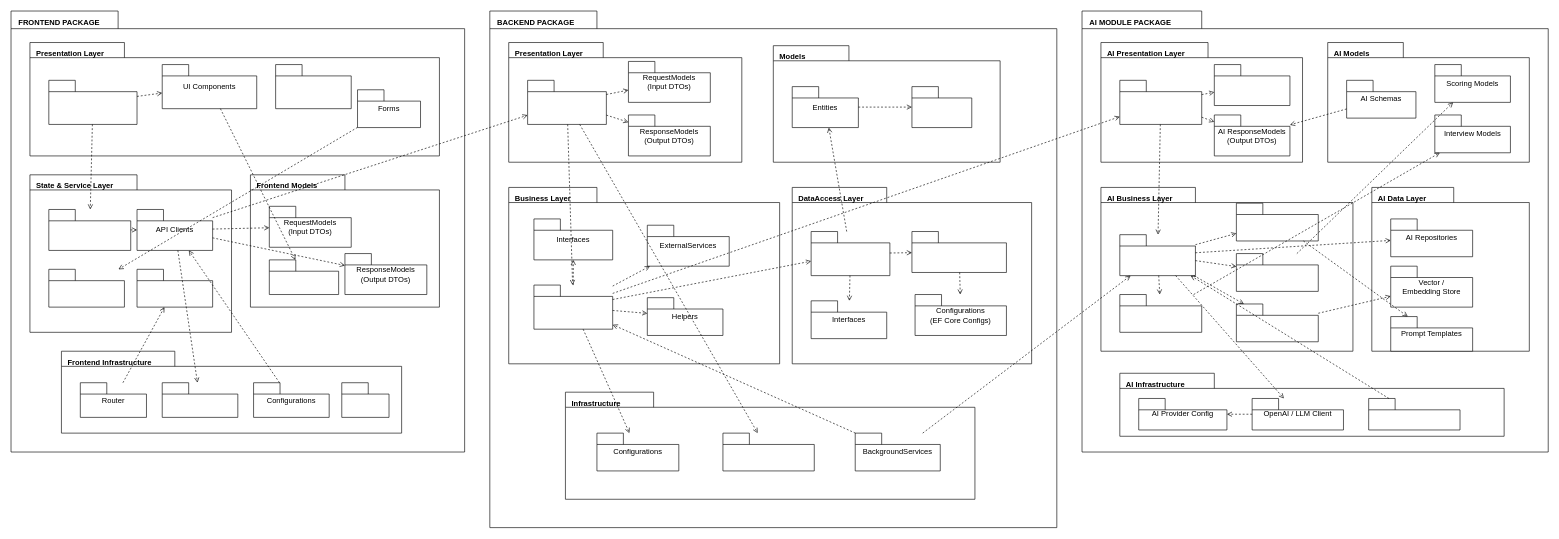
Some shapes in this 1559 by 539 pixel diagram are drawn without their labels. The centre of each missing label's shape, as x and y in pixels:
AI Controllers (API Endpoints): [1160,102]
AI RequestModels (Input DTOs): [1252,85]
AI Services: [1157,255]
ApplicationDbContext: [958,251]
Assets: [365,399]
Auth Guards: [174,288]
Background AI Jobs: [1414,414]
Controllers (API Endpoints): [566,102]
Enums: [941,107]
Hooks / Stores: [89,229]
Interceptors: [200,399]
Layouts: [313,86]
Middleware (Exception Handling): [768,451]
Mock Interview Engine: [1160,313]
Pages / Routes: [92,102]
Prompt Builder: [1277,222]
Ranking Engine: [1277,272]
Recommendation Engine: [1277,322]
Repositories (Data Access): [850,253]
Services (Business Logic): [573,306]
Validators: [86,288]
ViewModels: [304,277]
